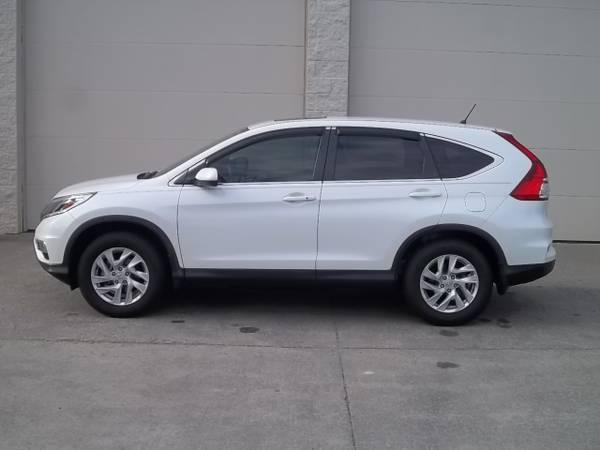Front_Bumper: (33, 208, 83, 273)
Front_Fender: (69, 182, 188, 275)
Front_Left_Door: (175, 179, 322, 275)
Front_Left_Window: (178, 128, 328, 186)
Left_Headlight: (35, 194, 89, 220)
Left_Taillight: (494, 130, 550, 200)
Rear_Bumper: (477, 192, 556, 284)
Rear_Fender: (422, 133, 521, 228)
Rear_Left_Door: (316, 180, 444, 279)
Rear_Left_Window: (323, 128, 441, 182)
Roof: (165, 115, 528, 186)
Wheel: (76, 230, 166, 318), (404, 235, 493, 322)
